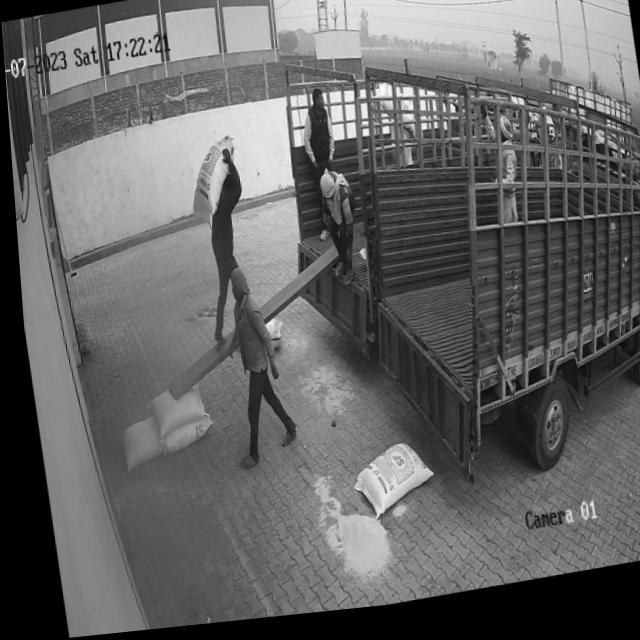sack: (341, 445, 429, 527), (180, 137, 242, 232), (139, 387, 200, 440), (111, 418, 157, 474), (153, 419, 207, 457)
